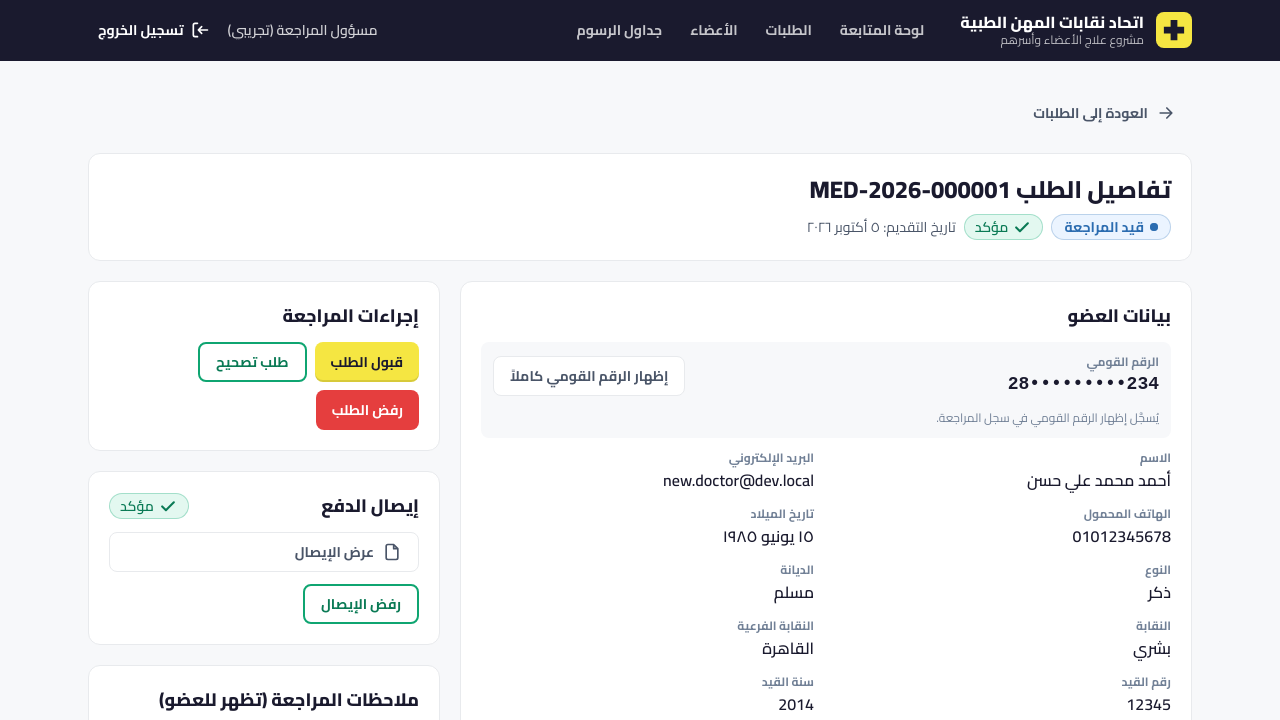
Test case: AdminApplicationDetailPage (PROMPT.md §44) › shows the server's refusal inside the dialog
The image size is (1280, 720).
Check: the heading "تفاصيل الطلب MED-2026-000001" is shown, box [807,174,1171,206]
Click the button "قبول الطلب". click: (367, 362)
box: [314,342,419,382]
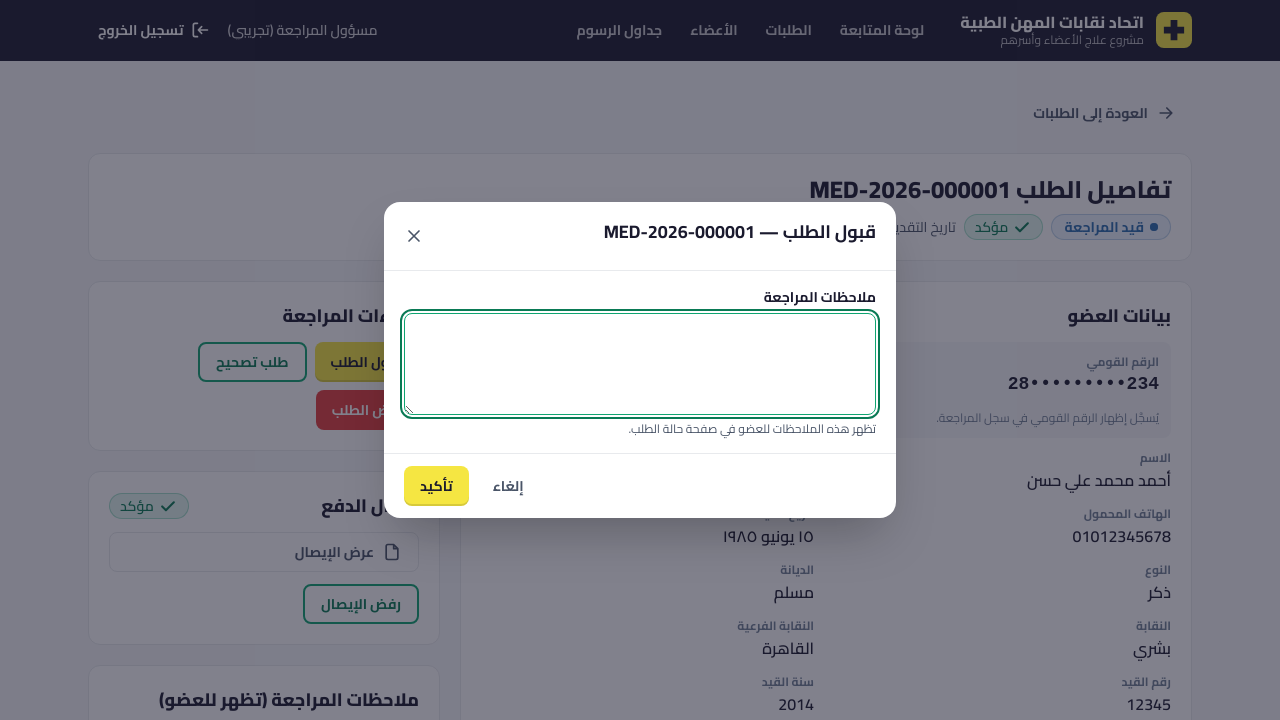
Click the button "تأكيد". click: (436, 486)
box: [404,466,469,506]
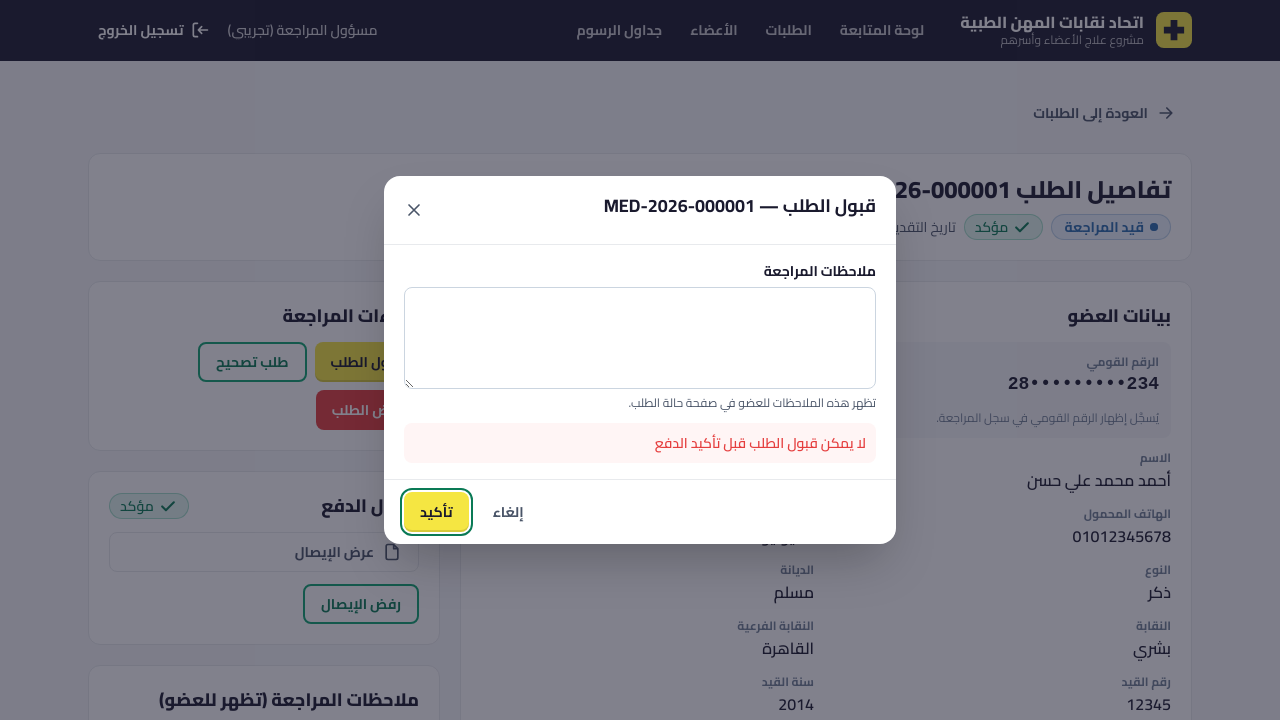
Check: the text "لا يمكن قبول الطلب قبل تأكيد الدفع" is shown, box [404,423,876,463]
